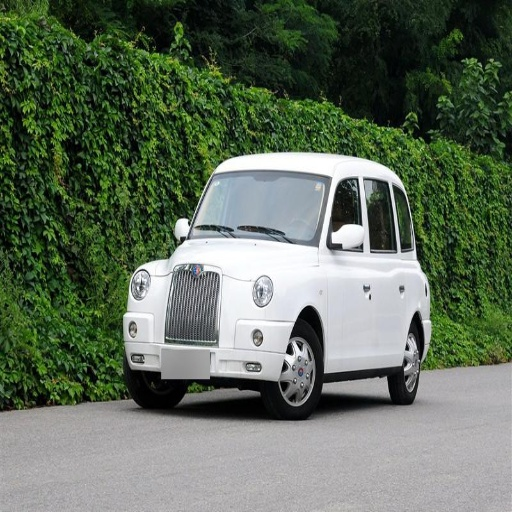front_bumper: (125, 274, 293, 379)
front_glass: (196, 170, 327, 242)
front_left_door: (322, 174, 376, 370)
